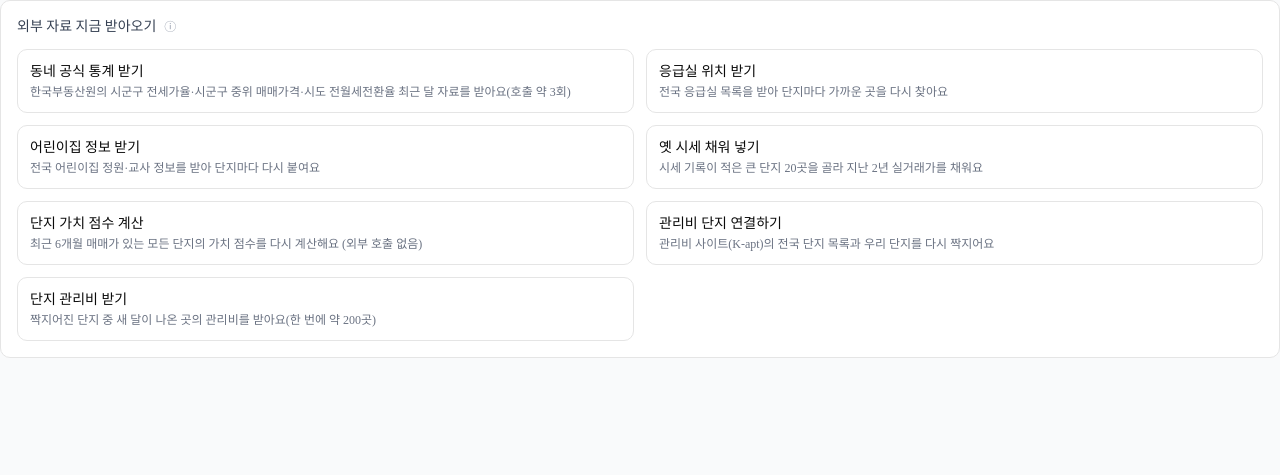
Test: CollectorTrigger — 누르기 전 확인창 › 짧은 수집기는 묻지 않고 바로 부른다
This screenshot has width=1280, height=475.
Click the button "동네 공식 통계 받기".
click(87, 72)  # box top-left (17, 49), bottom-right (634, 113)
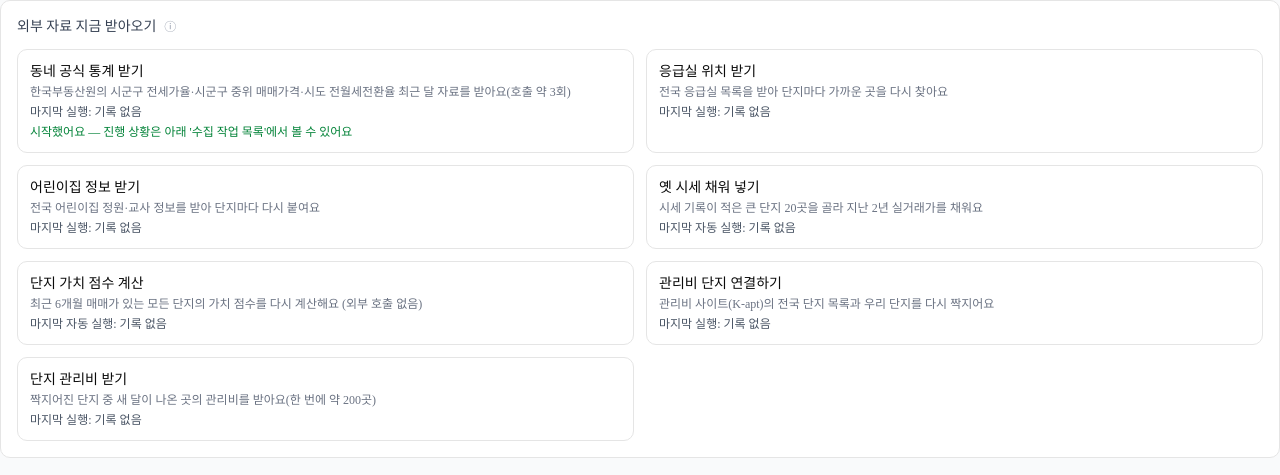
Check: the text "시작했어요 — 진행 상황은 아래 '수집 작업 목록'에서 볼 수 있어요" is shown, box top-left (30, 124), bottom-right (352, 140)
